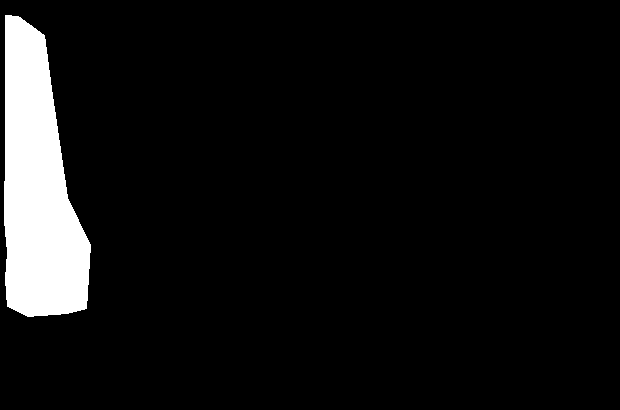type5: (3, 10, 96, 322)
